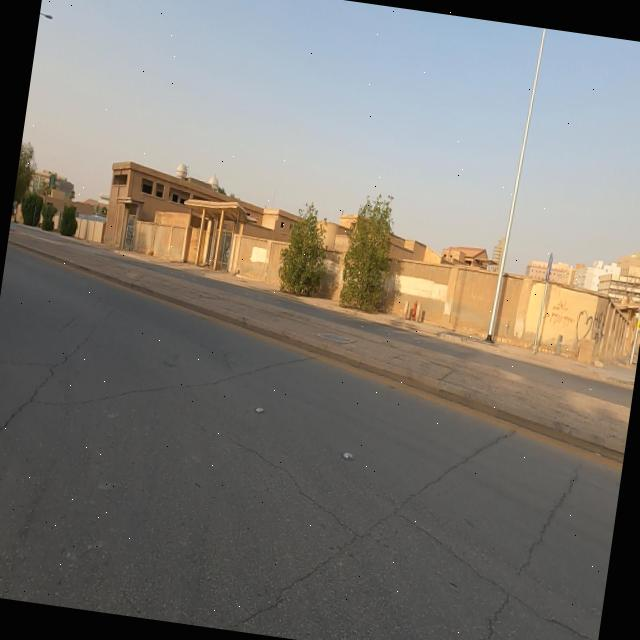Graffiti: (542, 300, 577, 331), (574, 310, 595, 345), (593, 311, 608, 345)
